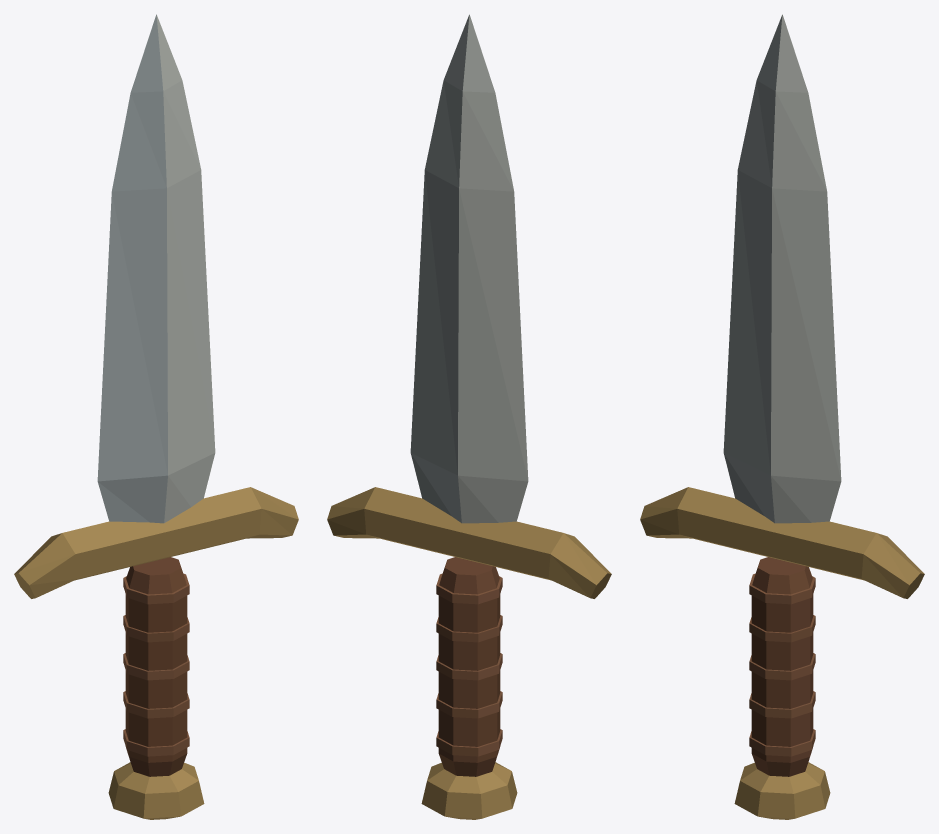
The model's file is weapon_sword_medium.glb.
3 renders of one model, left to right at view 1: azimuth 30°, elevation 25°; view 2: azimuth 150°, elevation 25°; view 3: azimuth 330°, elevation 25°, orthographic.
Parts seen in each view (by area): view 1: weapon_sword_medium; view 2: weapon_sword_medium; view 3: weapon_sword_medium.
Boxes of the visible parts, <box> form: weapon_sword_medium: <box>14,14,298,819</box>; weapon_sword_medium: <box>327,14,611,819</box>; weapon_sword_medium: <box>640,14,924,819</box>.
Bounding box in the file's own units: 0.3983 × 1.1 × 0.1239.
